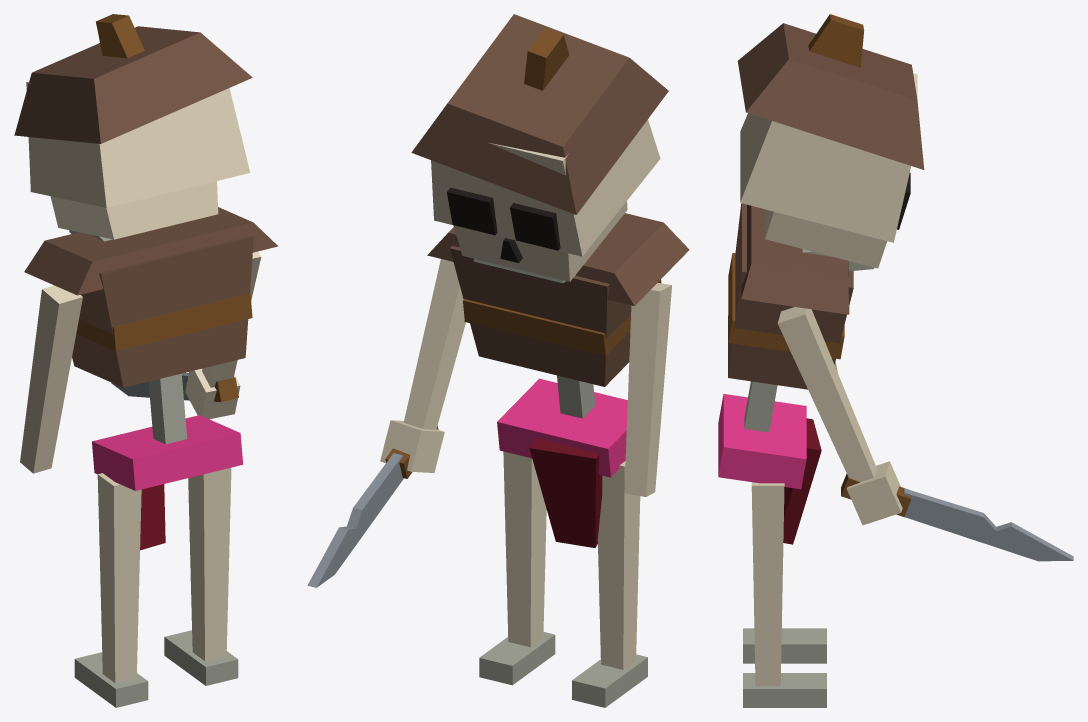
File: EN_SkeletalLegionnaire.fbx
3 renders of one model, left to right at view 1: azimuth 30°, elevation 25°; view 2: azimuth 150°, elevation 25°; view 3: azimuth 270°, elevation 25°, orthographic. The views are drawn at different scales.
Parts seen in each view (by area): view 1: Helm, Plates, Head, Shoulders, LegL, LegR, Body, ArmL, Face, Band, Spine, FootR (+7 smaller); view 2: Helm, Plates, Head, ArmL, LegL, LegR, Body, Shoulders, Rag, ArmR, Band, Face (+8 smaller); view 3: Helm, Head, Shoulders, Body, ArmR, LegR, Plates, Gladius, Face, FootR, HandR, FootL (+4 smaller).
Part boxes in pixels (x1,y1,x2,y2): Helm: [14, 26, 252, 143]; Plates: [72, 236, 253, 387]; Head: [26, 81, 250, 207]; Shoulders: [24, 207, 278, 295]; LegL: [97, 473, 141, 683]; LegR: [188, 468, 231, 661]; Body: [92, 415, 243, 490]; ArmL: [20, 285, 82, 473]; Face: [50, 181, 218, 239]; Band: [76, 293, 252, 351]; Spine: [148, 373, 187, 444]; FootR: [164, 630, 238, 685]; Helm: [411, 14, 668, 214]; Plates: [450, 245, 659, 386]; Head: [431, 119, 660, 256]; ArmL: [624, 283, 671, 496]; LegL: [597, 461, 640, 669]; LegR: [503, 451, 546, 647]; Body: [497, 378, 627, 477]; Shoulders: [427, 213, 689, 305]; Rag: [529, 438, 602, 547]; ArmR: [403, 259, 465, 429]; Band: [463, 279, 661, 356]; Face: [453, 201, 627, 281]; Helm: [737, 23, 924, 169]; Head: [740, 73, 917, 242]; Shoulders: [741, 204, 849, 314]; Body: [718, 394, 806, 489]; ArmR: [777, 307, 876, 481]; LegR: [751, 482, 784, 686]; Plates: [728, 203, 853, 389]; Gladius: [903, 488, 1073, 561]; Face: [765, 209, 887, 268]; FootR: [743, 673, 826, 707]; HandR: [847, 461, 902, 525]; FootL: [743, 628, 826, 663].
Size of the model in its own units: 0.6361 by 0.8455 by 1.72.
